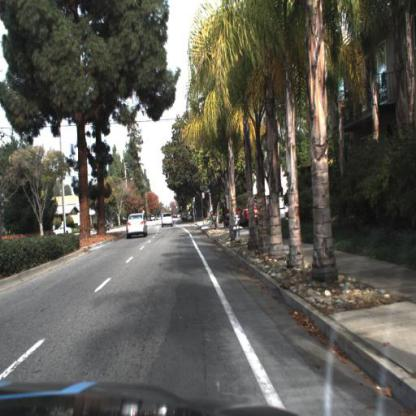car: (239, 193, 268, 229), (127, 212, 150, 239), (51, 221, 74, 240), (52, 226, 73, 237), (161, 214, 175, 229)
